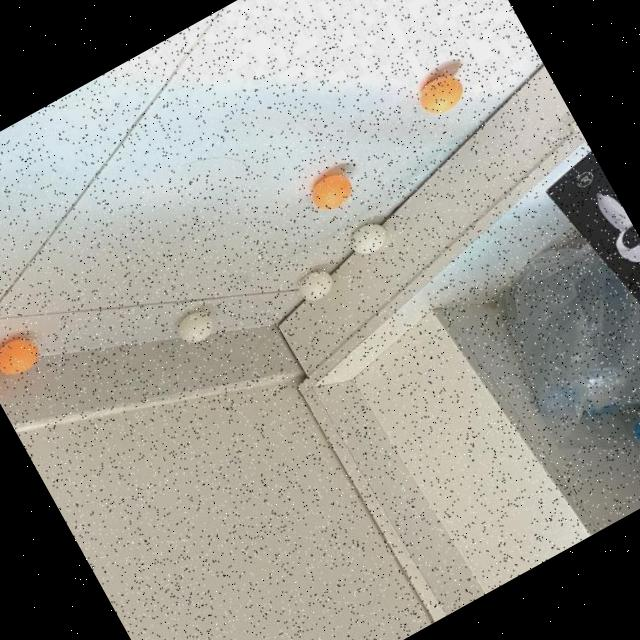ping-pong-ball: (414, 68, 470, 120), (306, 170, 358, 218), (0, 332, 46, 384), (170, 305, 220, 350), (344, 218, 392, 261), (294, 266, 338, 306)
